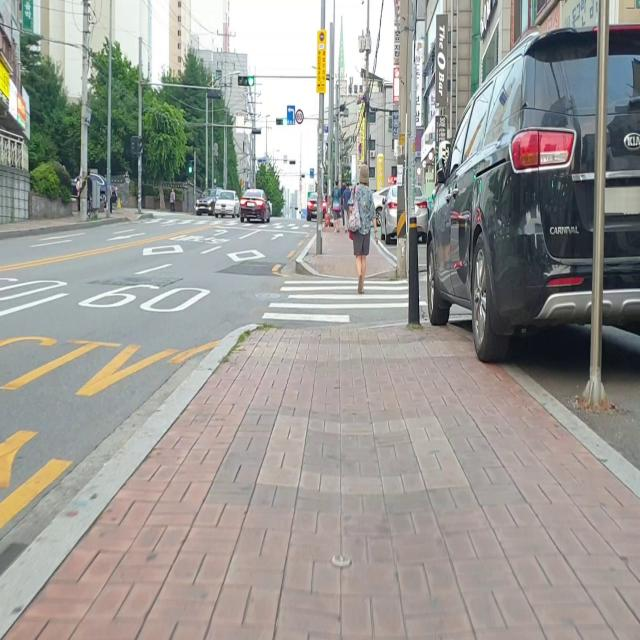횡단보도: (260, 276, 429, 326)
